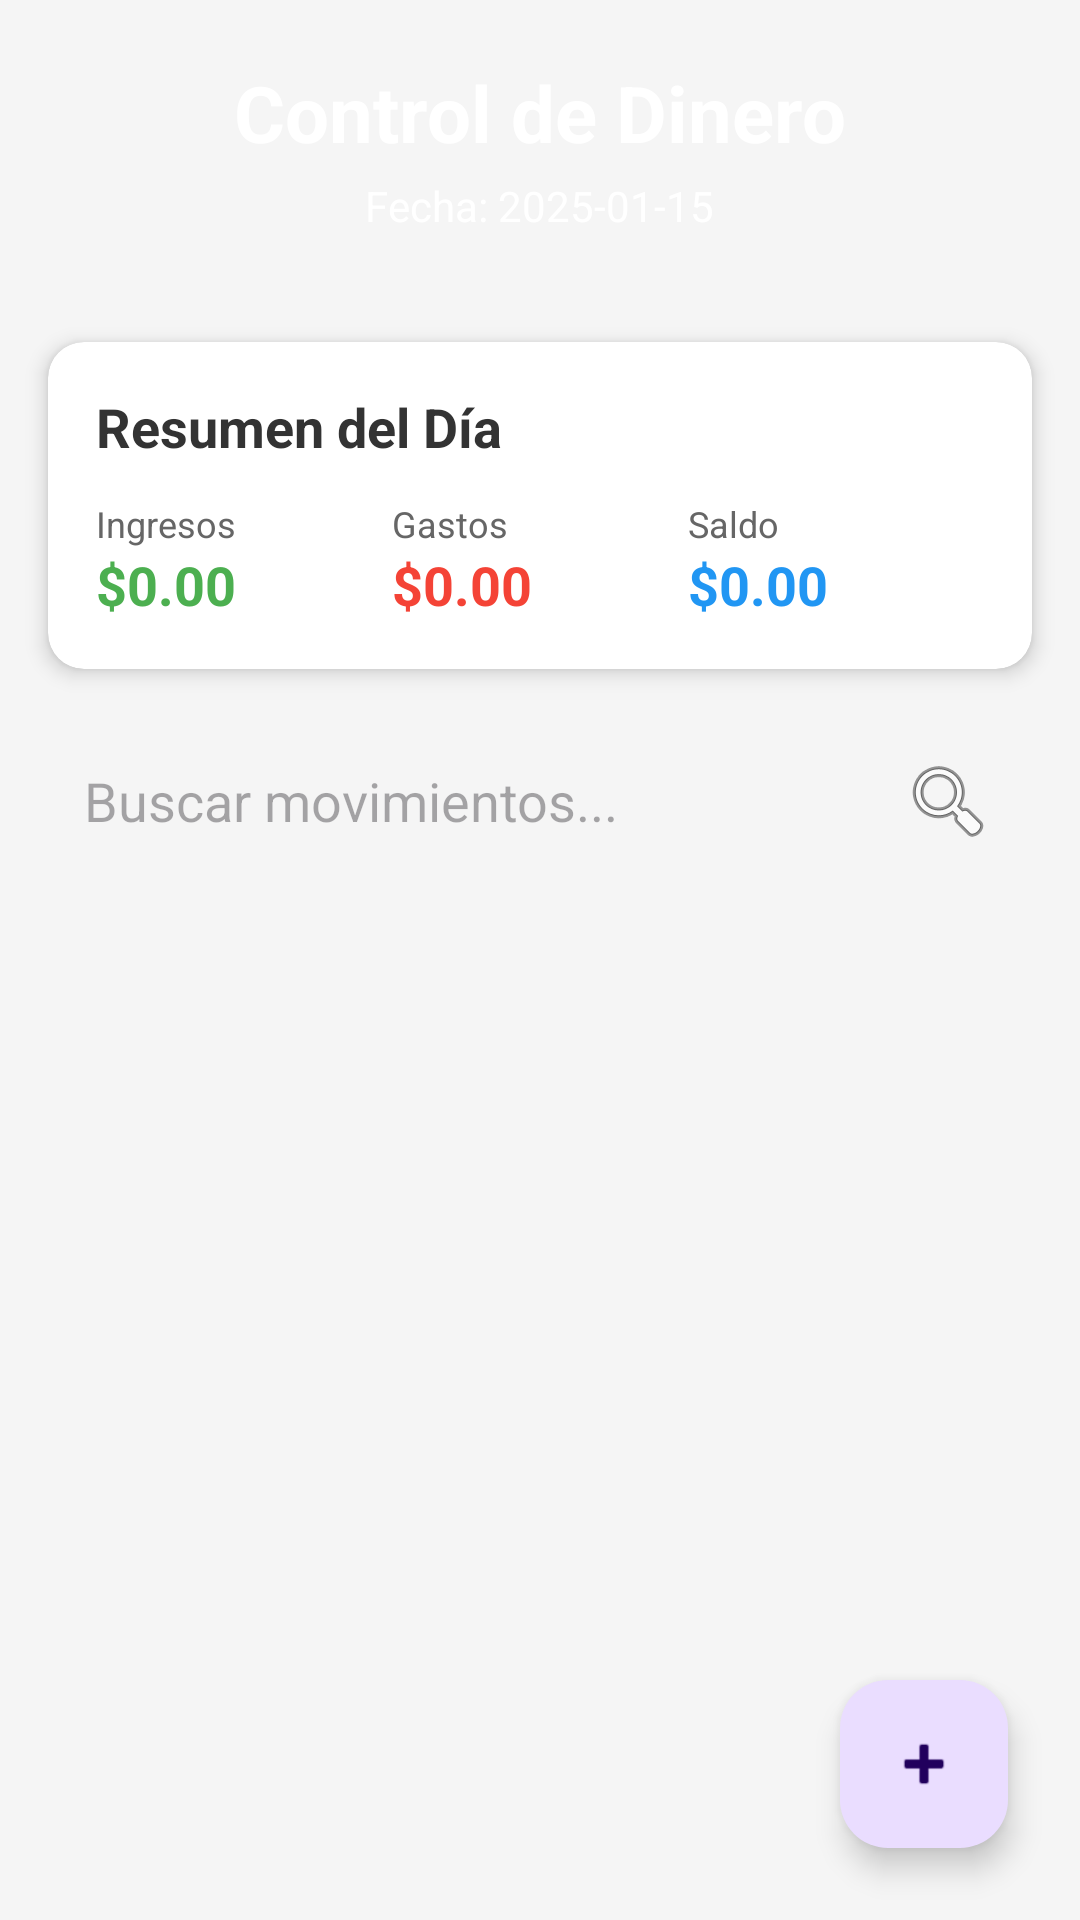

Icon bounding boxes for this 1080px×1920px phone screenshot, format (x1, y1, x2, y2):
Agregar movimiento: (840, 1680, 1008, 1848)
